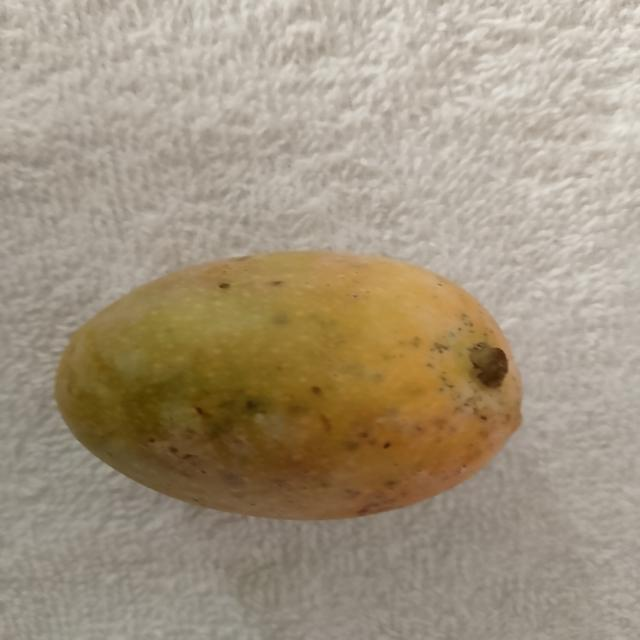mango: (57, 253, 520, 518)
